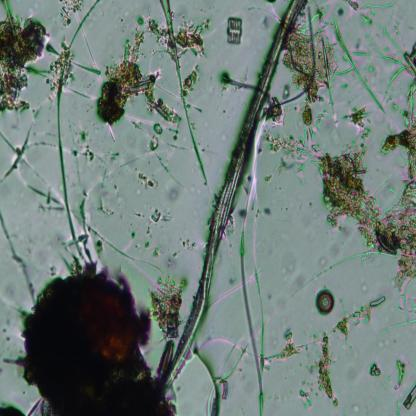Anthropogenic: (167, 0, 308, 384)
Background material: (10, 249, 184, 416), (313, 106, 390, 265), (147, 0, 205, 184), (284, 4, 348, 127), (87, 21, 152, 141), (383, 107, 416, 311), (0, 0, 51, 117), (258, 98, 326, 183), (328, 18, 384, 113), (26, 37, 93, 103), (141, 266, 189, 331), (349, 0, 402, 48), (200, 330, 252, 378), (311, 327, 341, 409), (333, 290, 384, 334), (62, 132, 112, 176), (0, 112, 32, 176), (0, 208, 27, 278), (276, 243, 310, 293), (146, 86, 180, 130), (79, 183, 97, 266), (271, 325, 308, 363), (220, 66, 259, 100), (27, 180, 65, 212), (397, 76, 416, 124), (54, 0, 80, 34), (190, 5, 210, 32), (401, 378, 416, 412), (218, 370, 236, 398), (135, 170, 158, 191), (0, 397, 23, 416), (301, 380, 316, 409), (99, 192, 115, 218), (404, 43, 416, 77), (394, 357, 404, 394), (181, 235, 197, 252), (384, 320, 406, 332), (150, 207, 164, 225), (370, 358, 383, 377), (148, 135, 162, 151), (168, 186, 183, 200), (365, 396, 376, 415), (236, 203, 248, 219), (382, 375, 391, 395), (95, 237, 105, 254), (152, 245, 163, 260), (348, 402, 361, 414), (132, 209, 145, 220), (152, 124, 163, 136), (144, 226, 154, 238), (142, 239, 152, 249), (128, 229, 137, 240), (377, 337, 385, 349), (161, 214, 173, 222), (264, 206, 273, 216), (263, 0, 280, 4), (175, 254, 179, 258)
Diatom: (159, 336, 177, 376), (224, 14, 244, 48), (314, 287, 336, 316), (165, 312, 180, 340)
Glass filter fibre: (58, 0, 99, 249), (236, 208, 264, 416), (206, 383, 215, 415)
